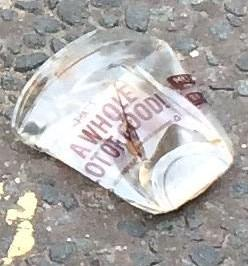plastic: (12, 28, 234, 215)
